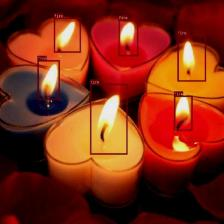fire: (90, 84, 127, 154), (177, 34, 206, 81), (37, 60, 60, 100), (54, 18, 80, 52), (118, 20, 138, 56), (174, 96, 192, 130)
